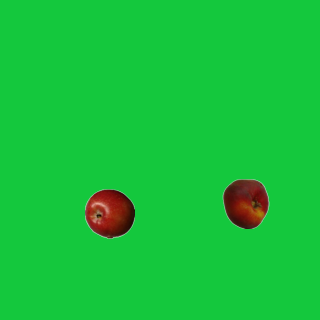Apple Braeburn: (84, 188, 134, 238)
Nectarine Flat: (220, 178, 270, 228)
